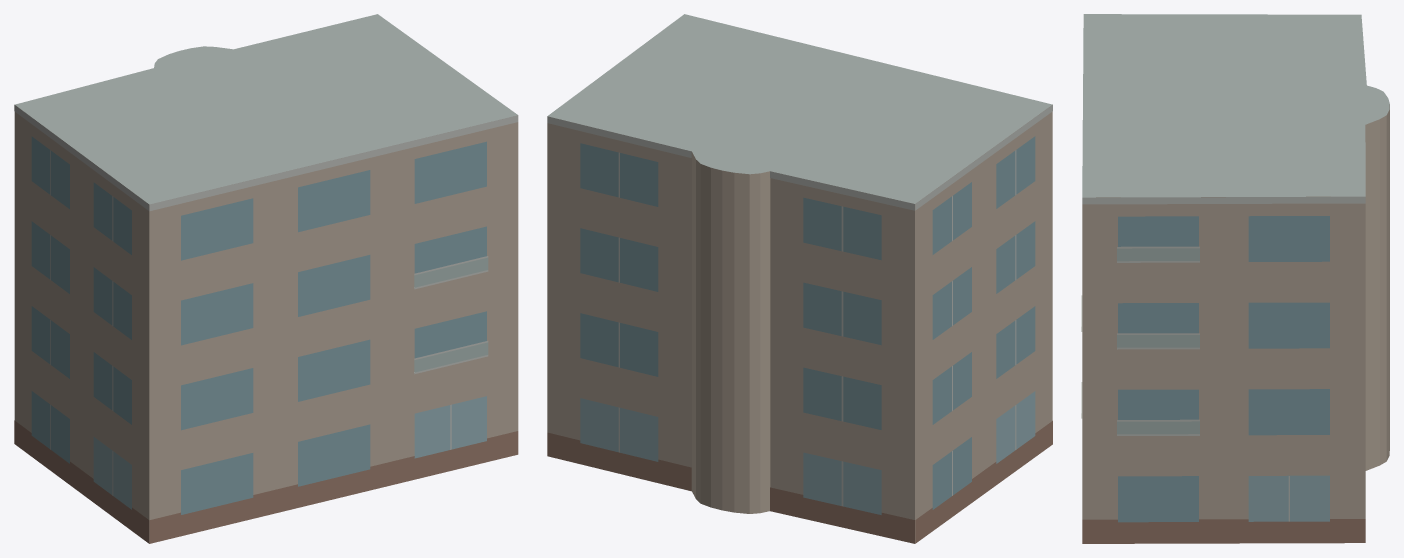
File: survey-upis-32779955.glb
3 views of the same model, side by side, from view 1: azimuth 30°, elevation 25°; view 2: azimuth 150°, elevation 25°; view 3: azimuth 270°, elevation 25° (orthographic). The views are drawn at different scales.
Parts seen in each view (by area): view 1: survey-upis-32779955.tmp; view 2: survey-upis-32779955.tmp; view 3: survey-upis-32779955.tmp.
Boxes of the visible parts, x1=… form: survey-upis-32779955.tmp: x1=14, y1=14, x2=518, y2=543; survey-upis-32779955.tmp: x1=547, y1=14, x2=1052, y2=543; survey-upis-32779955.tmp: x1=1081, y1=14, x2=1389, y2=543.
Size of the model in its own units: 13.9 by 12.2 by 9.86.
